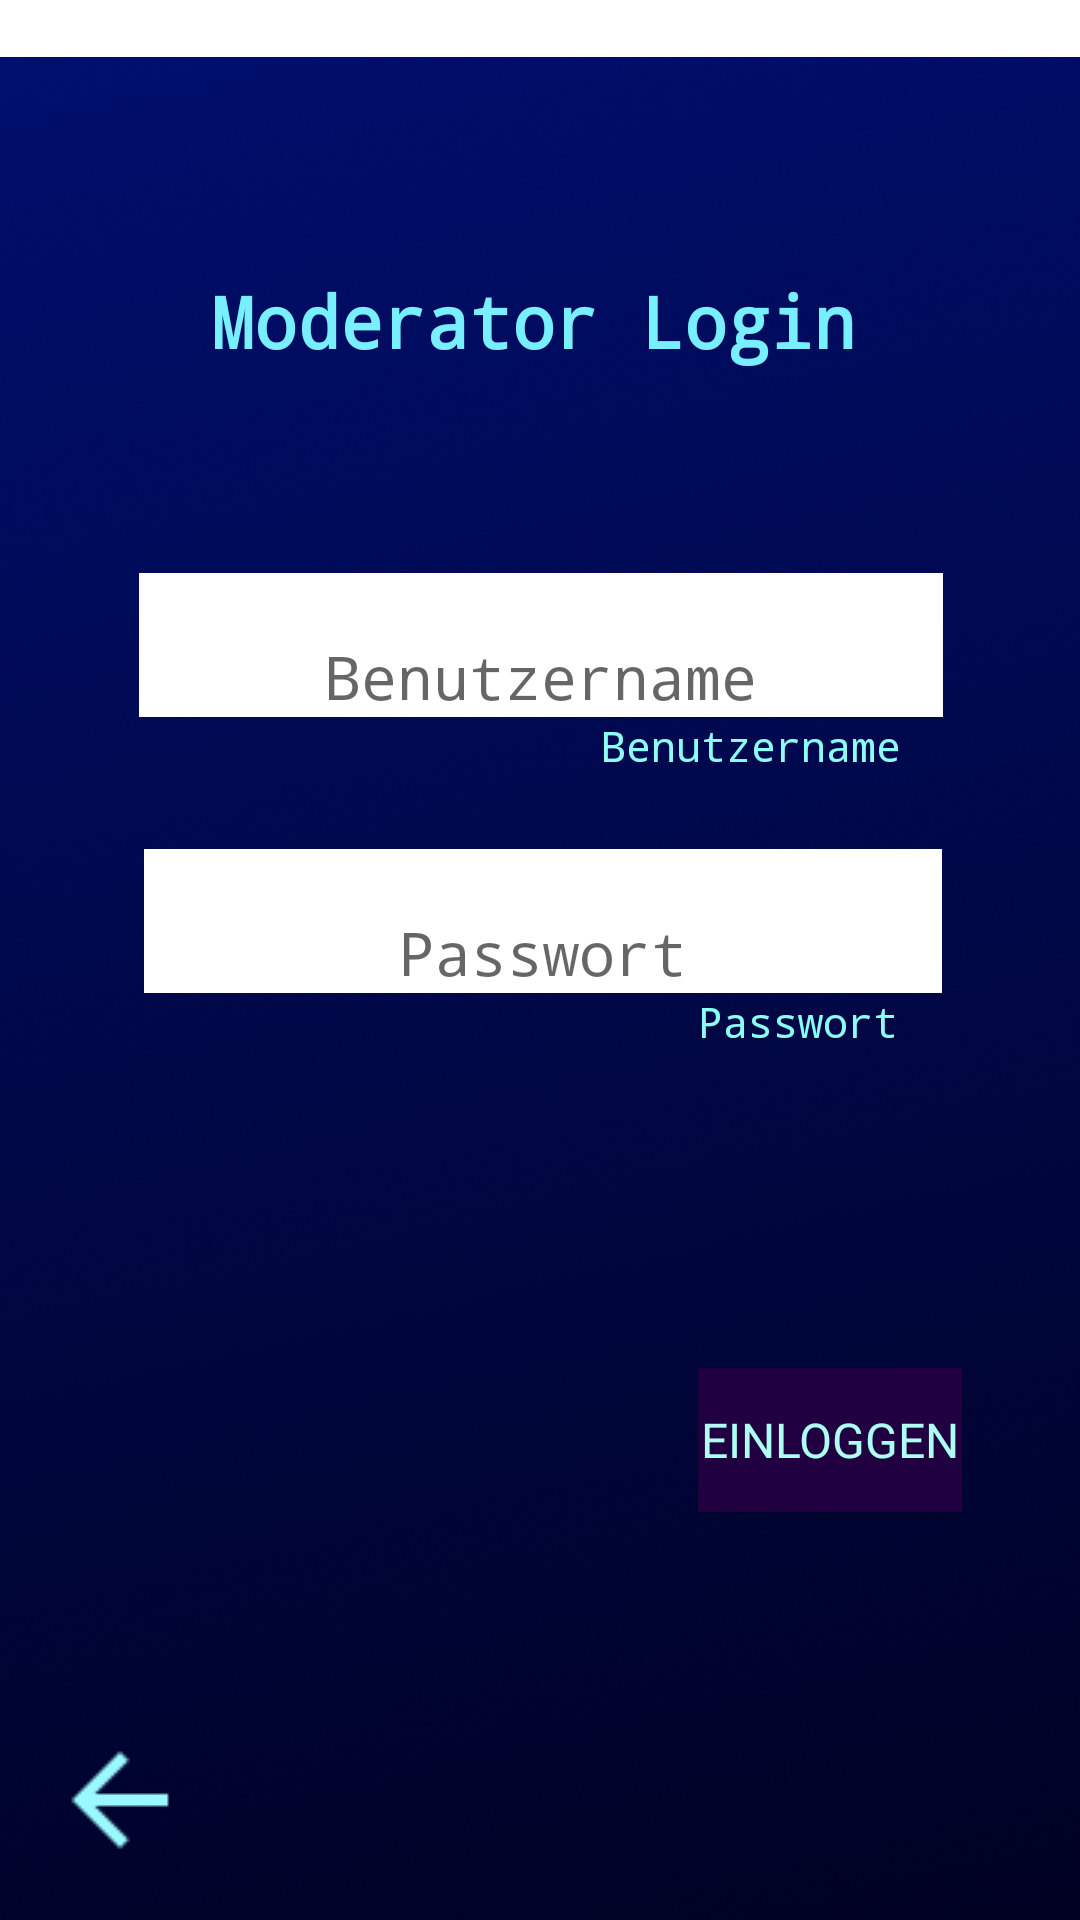

Icons on this 1080x1920 Android screen, each with its box as (x1, y1, x2, y2):
Zurück: (71, 1751, 169, 1849)
